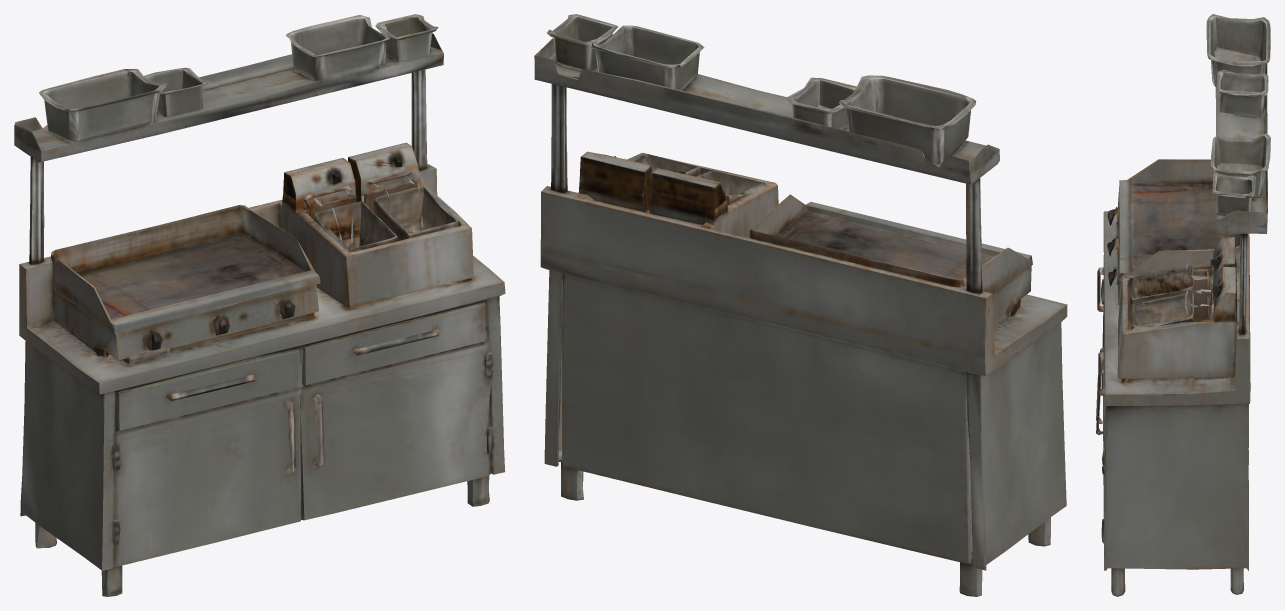
File: shop-backbar.glb
3 renders of one model, left to right at view 1: azimuth 30°, elevation 25°; view 2: azimuth 150°, elevation 25°; view 3: azimuth 270°, elevation 25°, orthographic. The views are drawn at different scales.
Parts seen in each view (by area): view 1: shopBackbar; view 2: shopBackbar; view 3: shopBackbar.
Boxes of the visible parts, x1,y1,x2,y2 form: shopBackbar: [14, 14, 505, 596]; shopBackbar: [534, 14, 1067, 596]; shopBackbar: [1096, 14, 1270, 596].
Size of the model in its own units: 1.77 by 1.83 by 0.7.
Materials: 1 (1 with a texture image).
